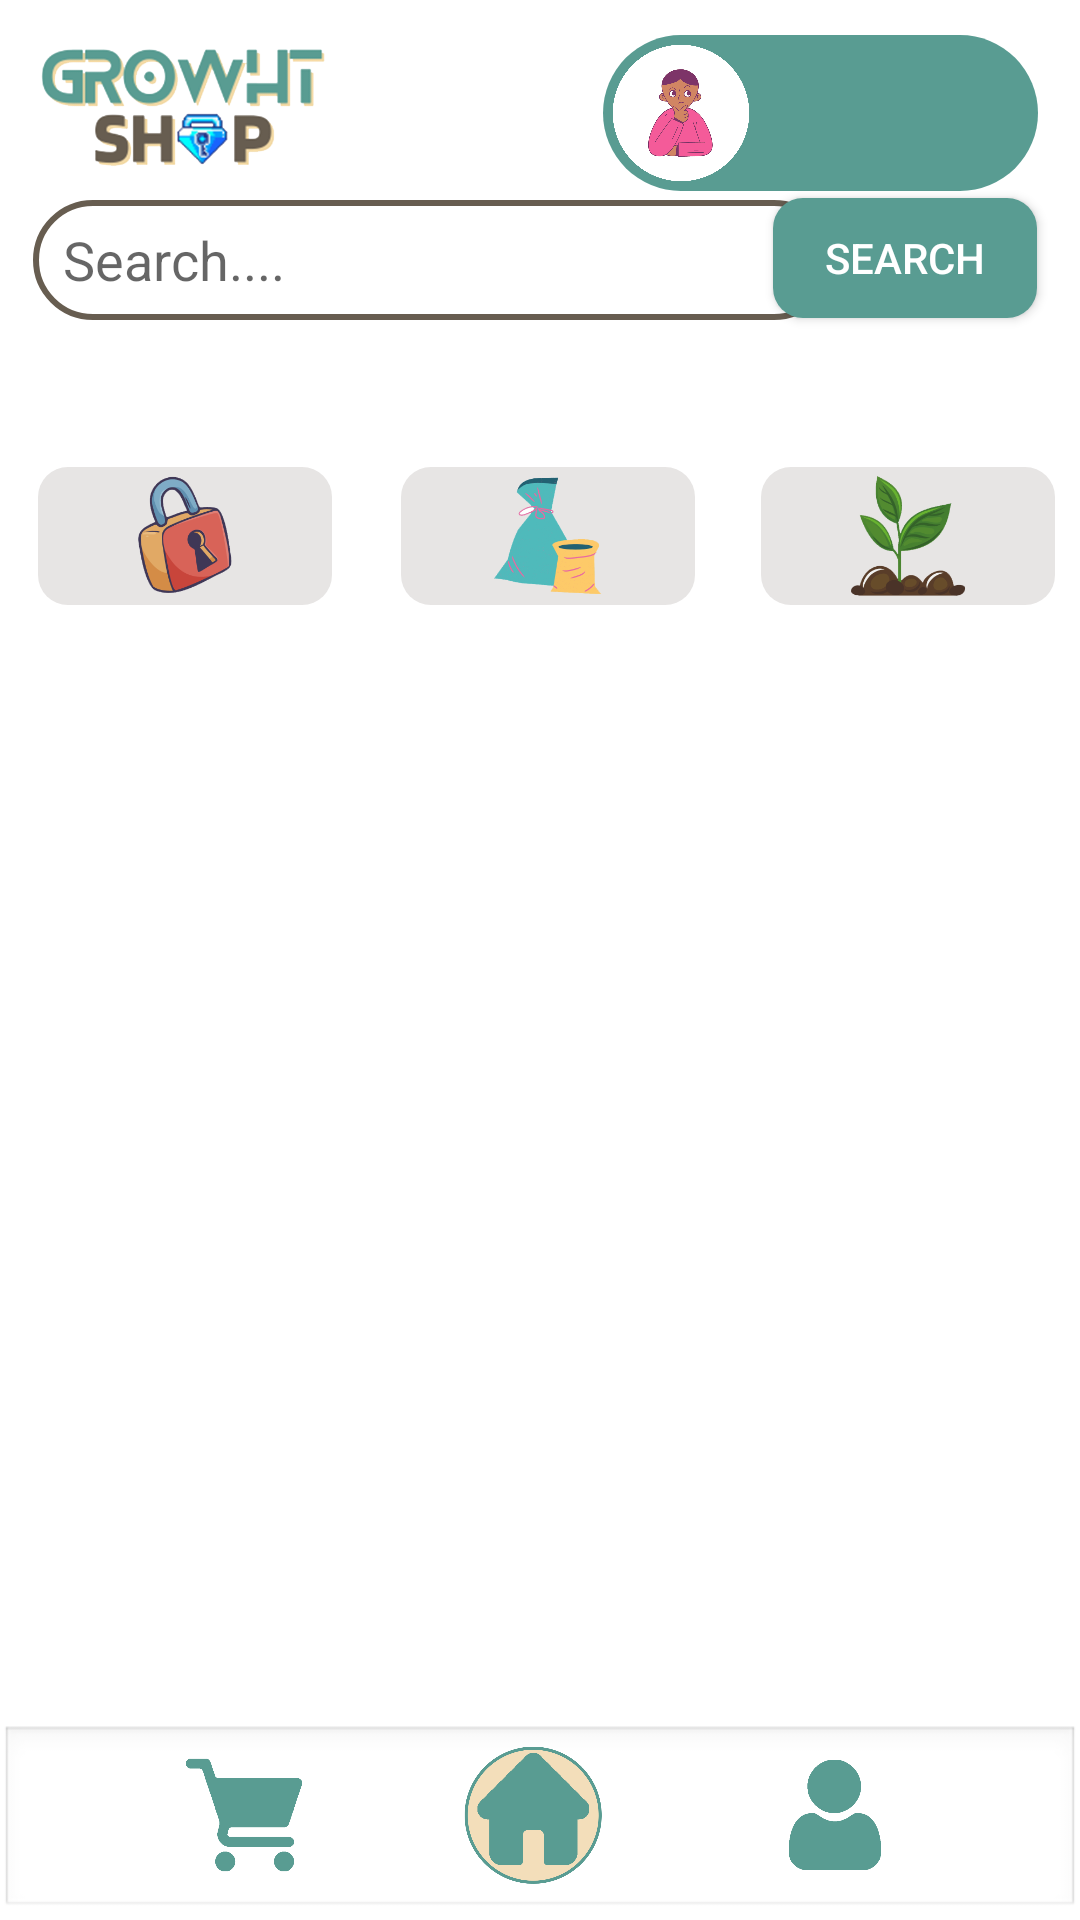

Screen size 1080px x 1920px. Icon name, then its center in pixels as [x,y]:
acc: [835,1815]
cart: [244,1815]
home chs: [533,1815]
